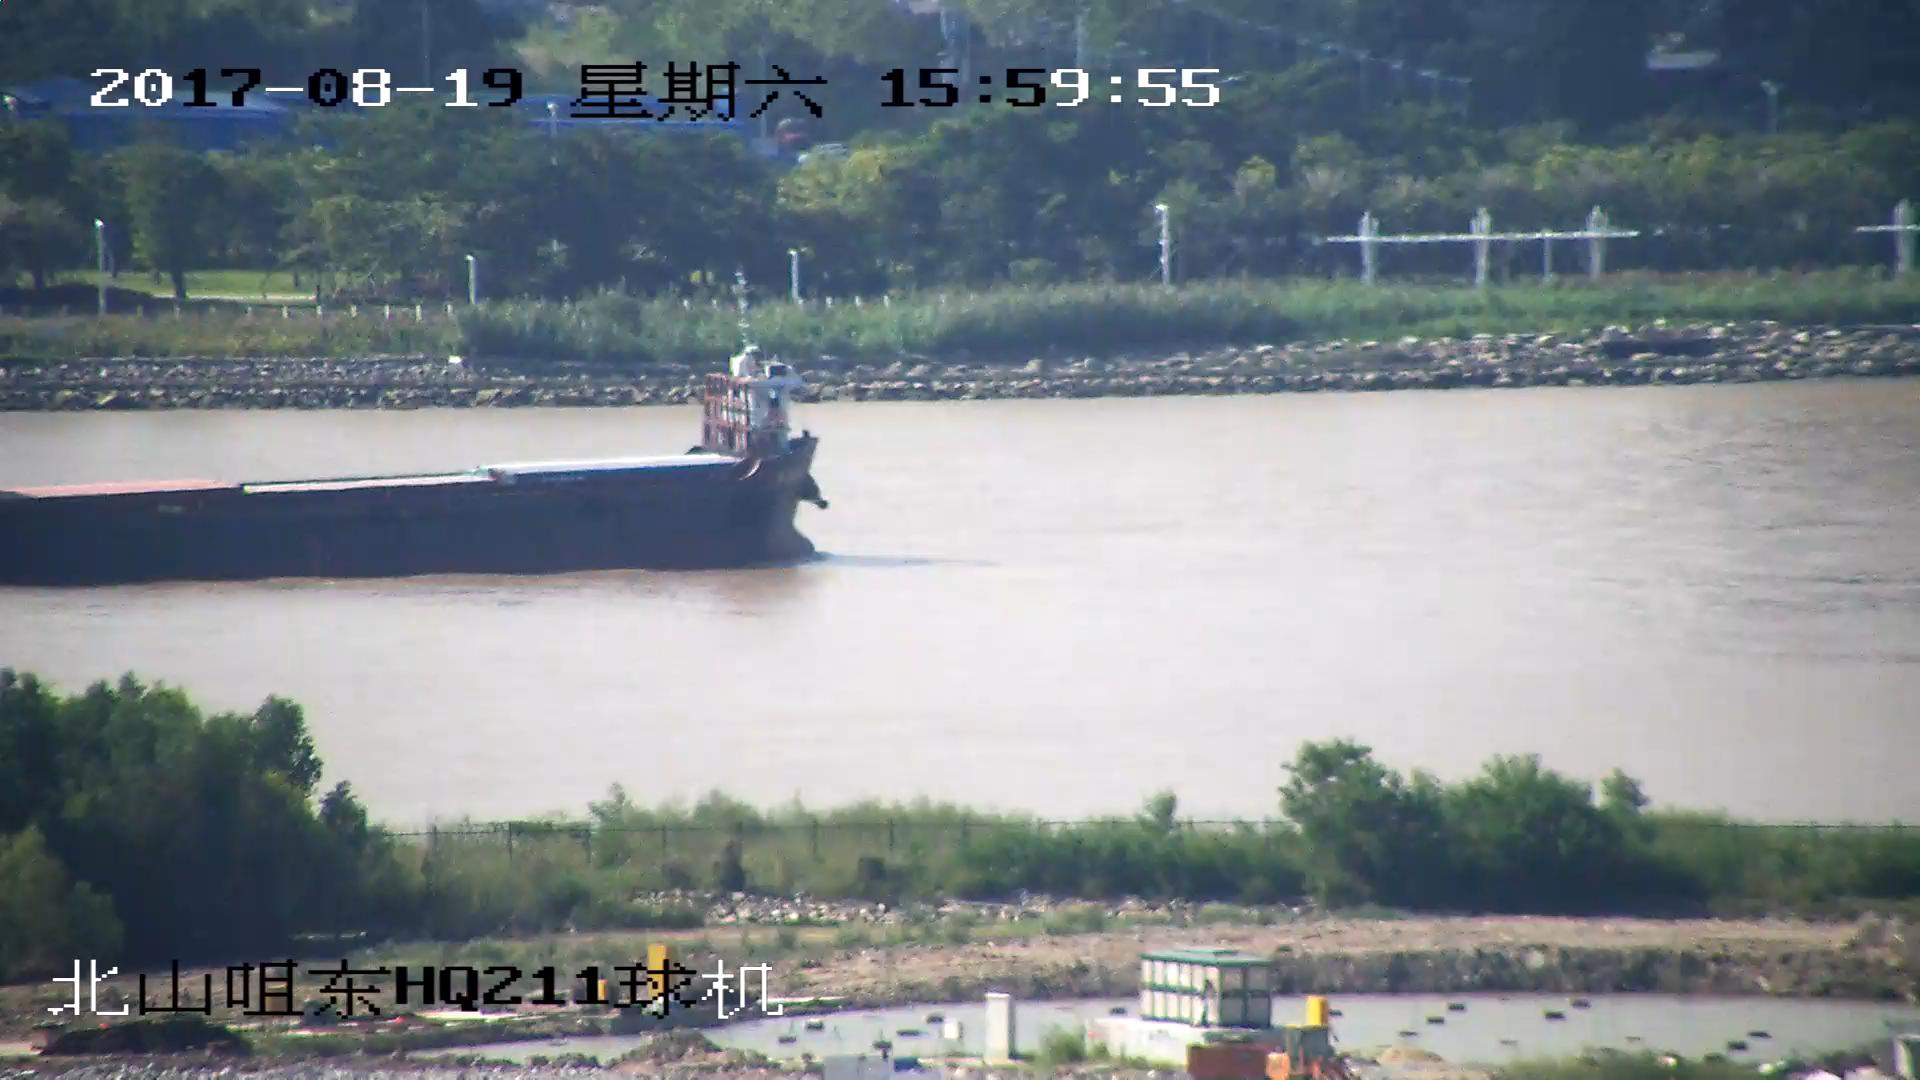general cargo ship: (1, 333, 827, 584)
